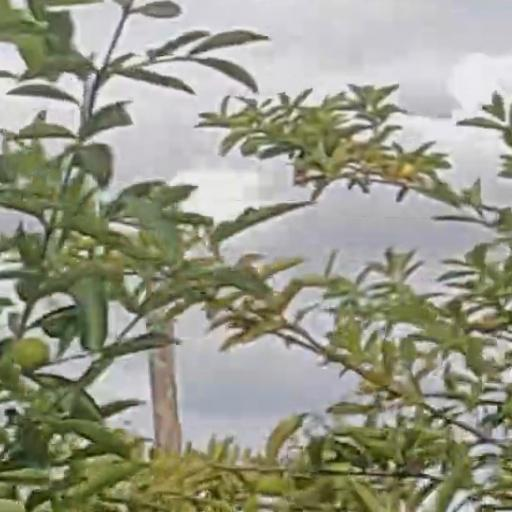acerola: (15, 339, 48, 367)
